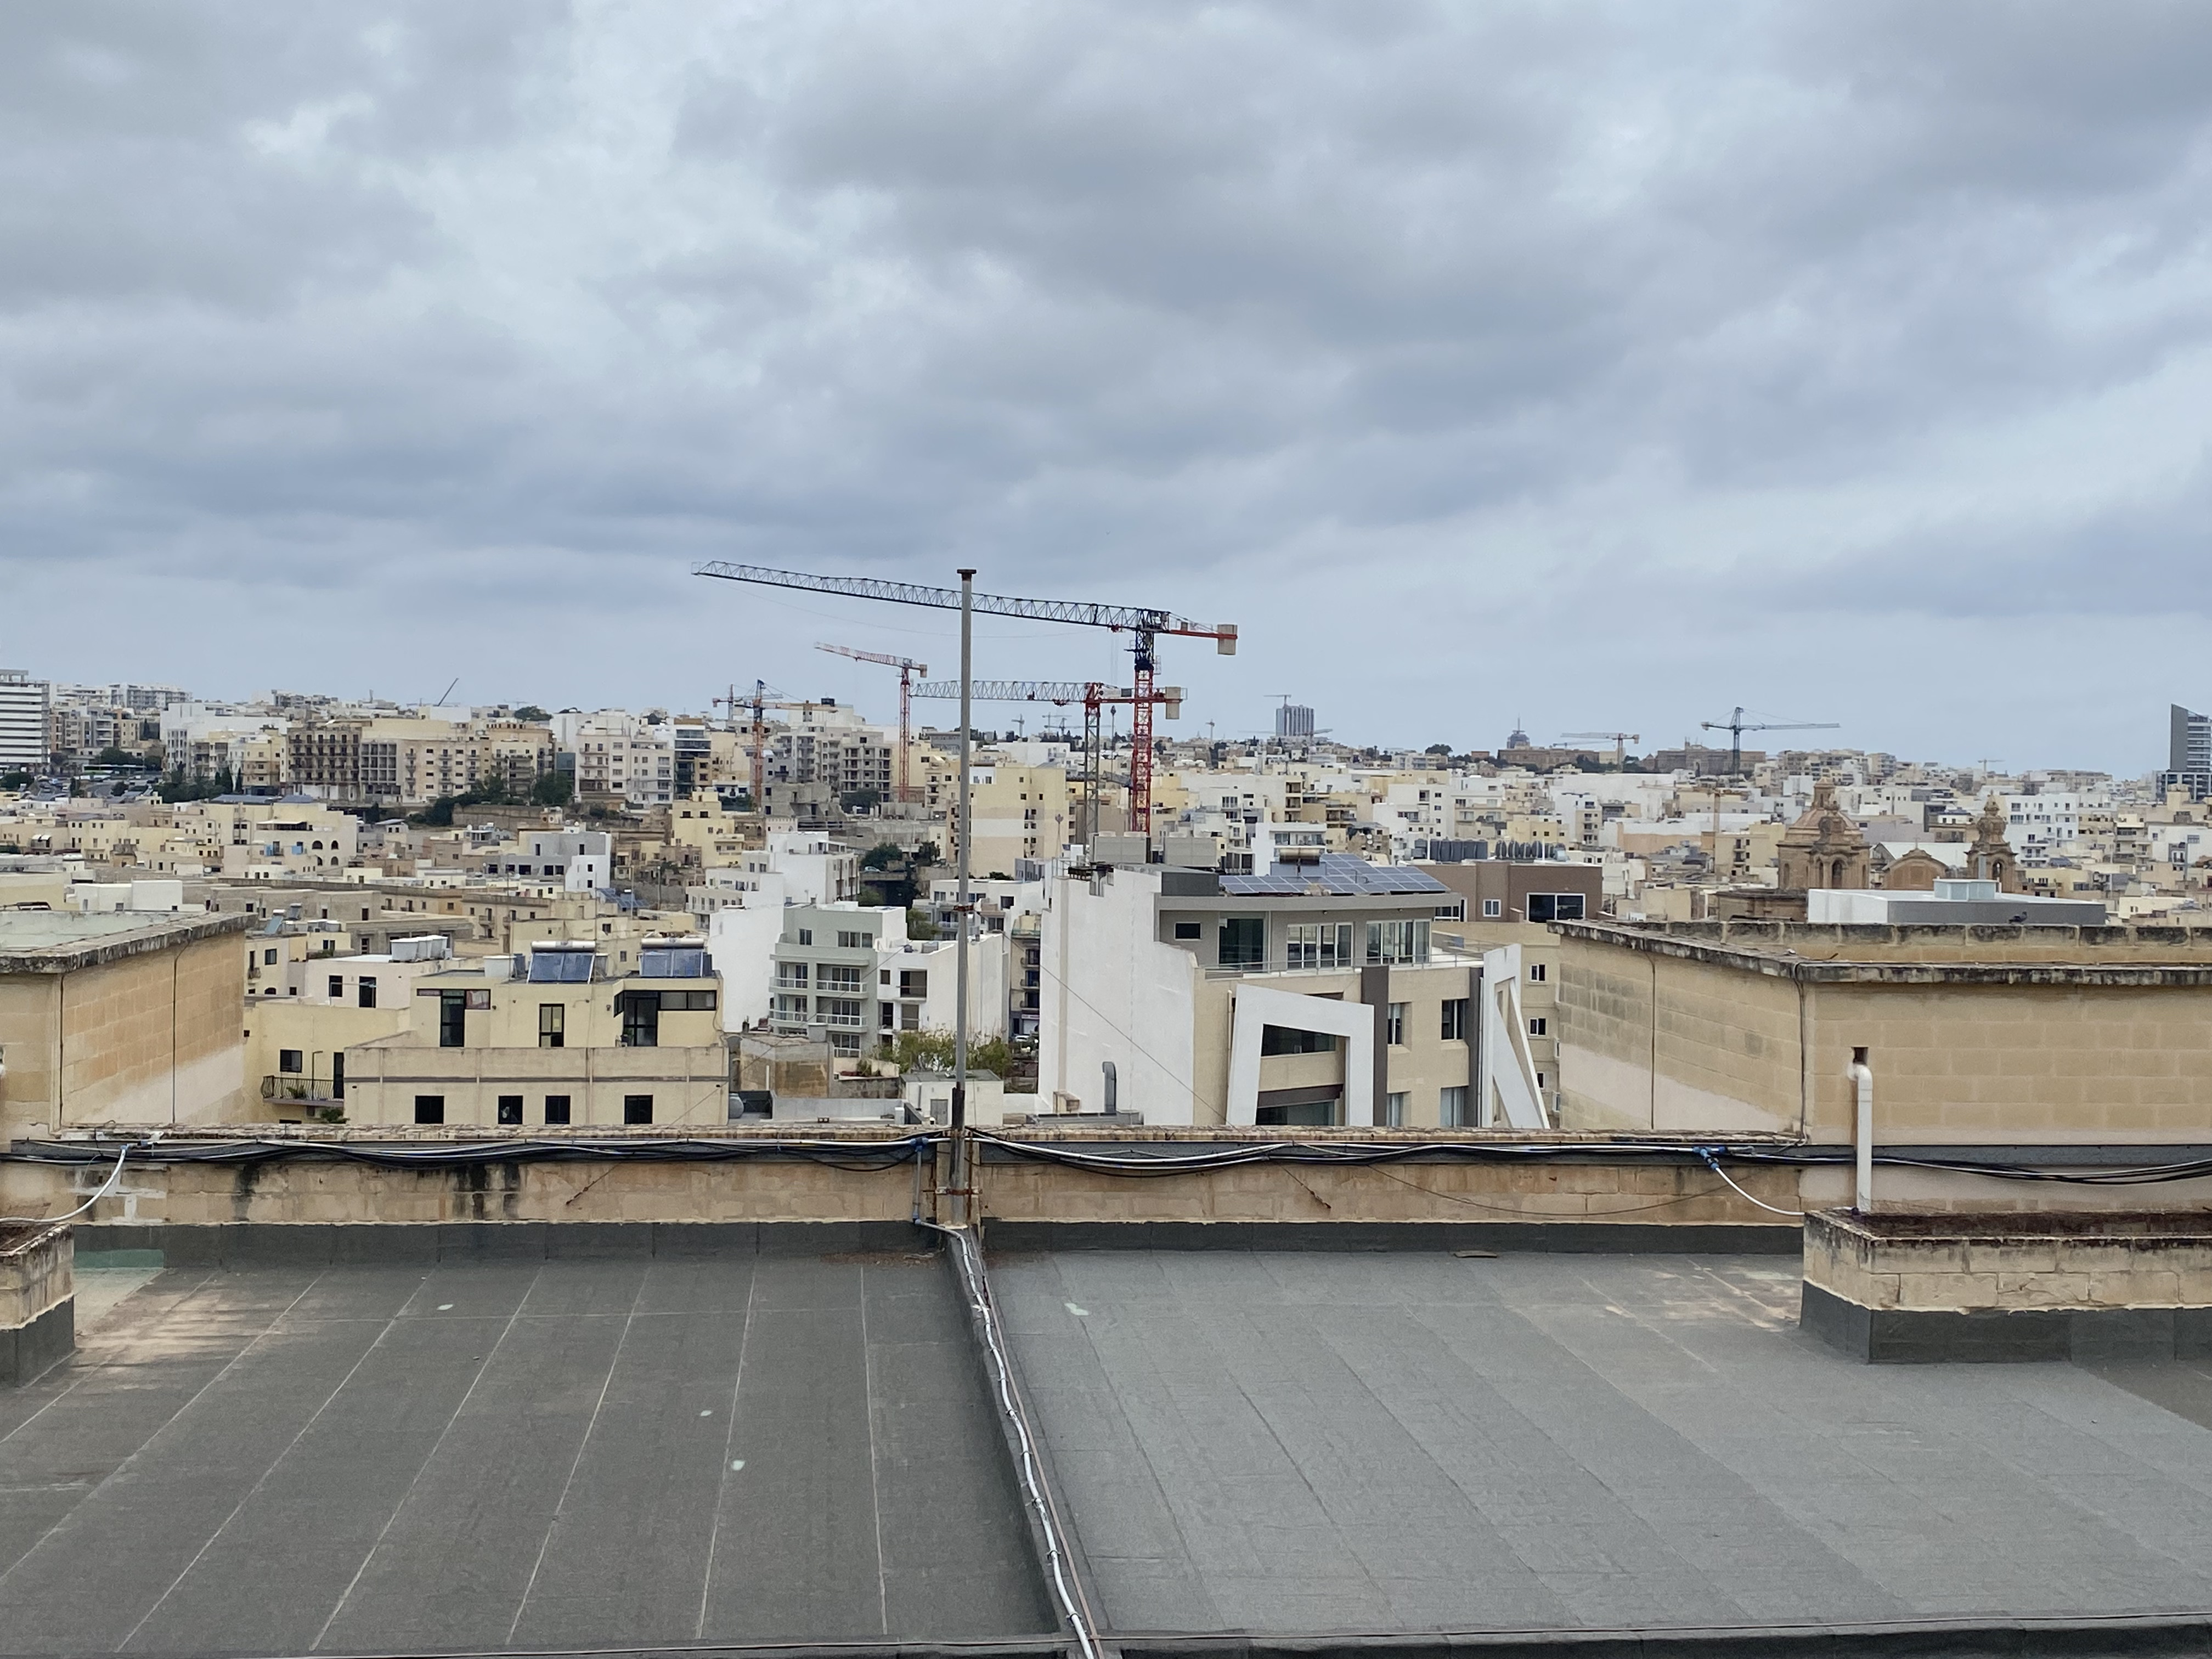Crane: (679, 547, 1261, 831), (899, 669, 1193, 824), (806, 631, 934, 728), (698, 666, 834, 739), (1689, 699, 1850, 758), (1554, 709, 1648, 756)
